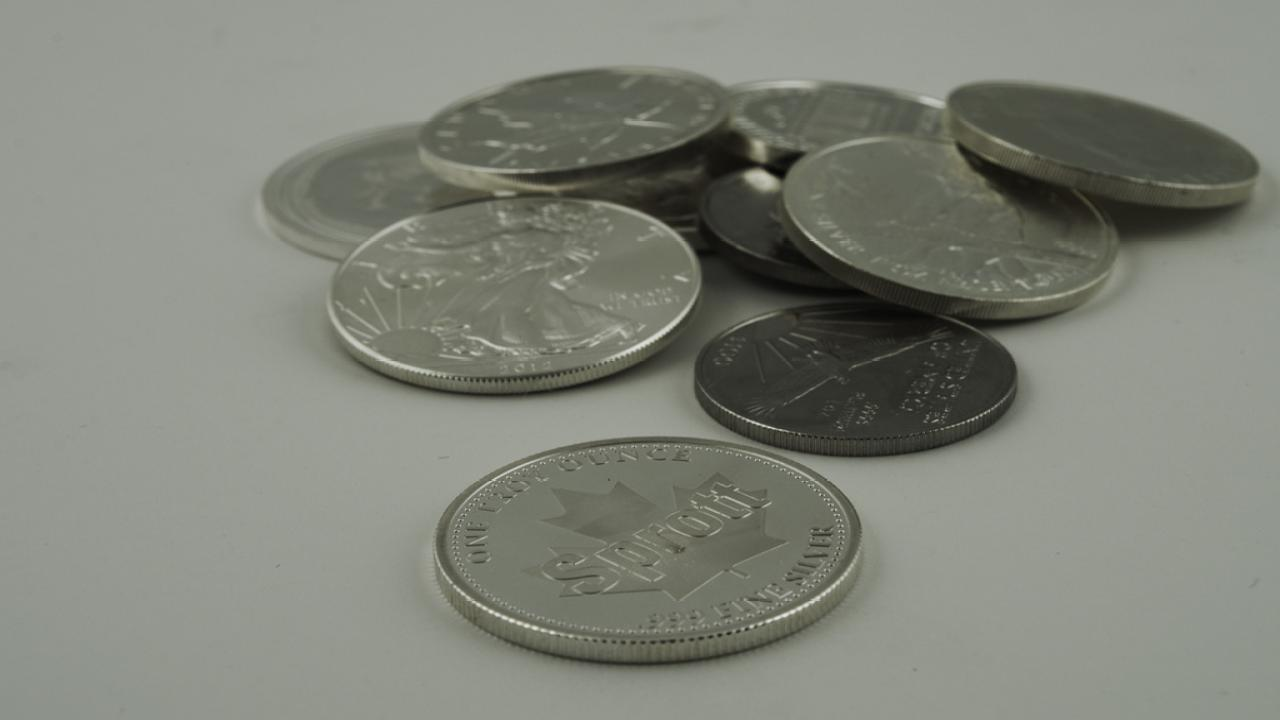coin: (428, 433, 866, 665), (332, 196, 696, 391), (778, 137, 1116, 326), (423, 65, 728, 237), (693, 298, 1012, 456), (944, 79, 1264, 212), (257, 121, 466, 261), (696, 167, 870, 294), (722, 78, 950, 174)
